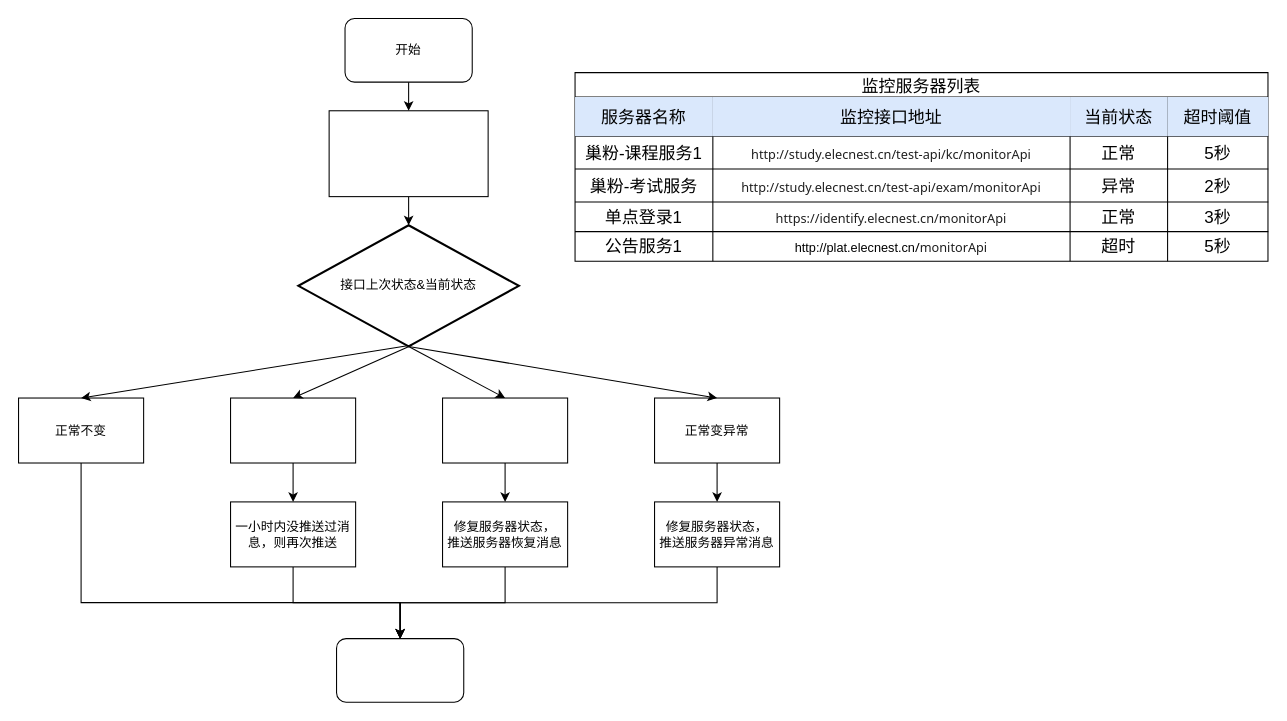
This 1287x721 diagram has some shape labels left out. Each missing label, with the centre of its shape:
"异常不变" belongs at [292,430].
"异常变正常" belongs at [504,430].
"拉去需监控接口列表，循环遍历检查接口情况" belongs at [408,153].
"结束" belongs at [399,670].
